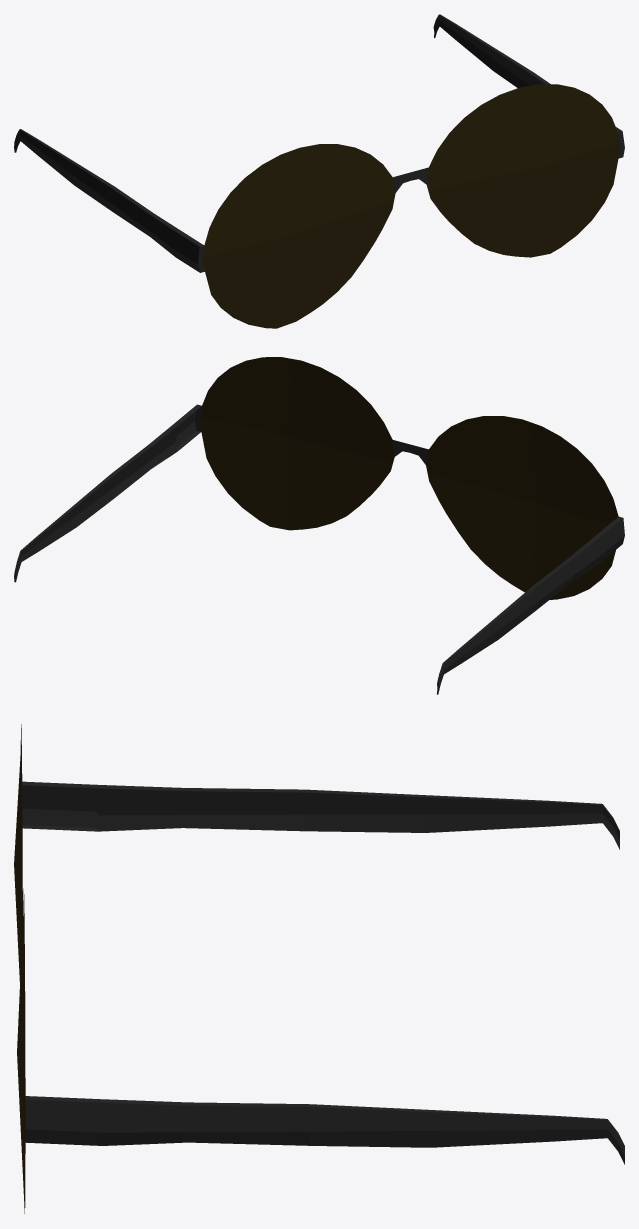
The model's file is sunglasses.fbx.
3 views of the same model, one above another, from view 1: azimuth 30°, elevation 25°; view 2: azimuth 150°, elevation 25°; view 3: azimuth 270°, elevation 25° (orthographic). The views are drawn at different scales.
Visible parts, largest first — view 1: sunglasses; view 2: sunglasses; view 3: sunglasses.
Boxes of the visible parts, x1,y1,x2,y2 form: sunglasses: (14, 14, 624, 328); sunglasses: (14, 357, 624, 694); sunglasses: (14, 724, 624, 1213).
Bounding box in the file's own units: 504 × 203 × 384.
